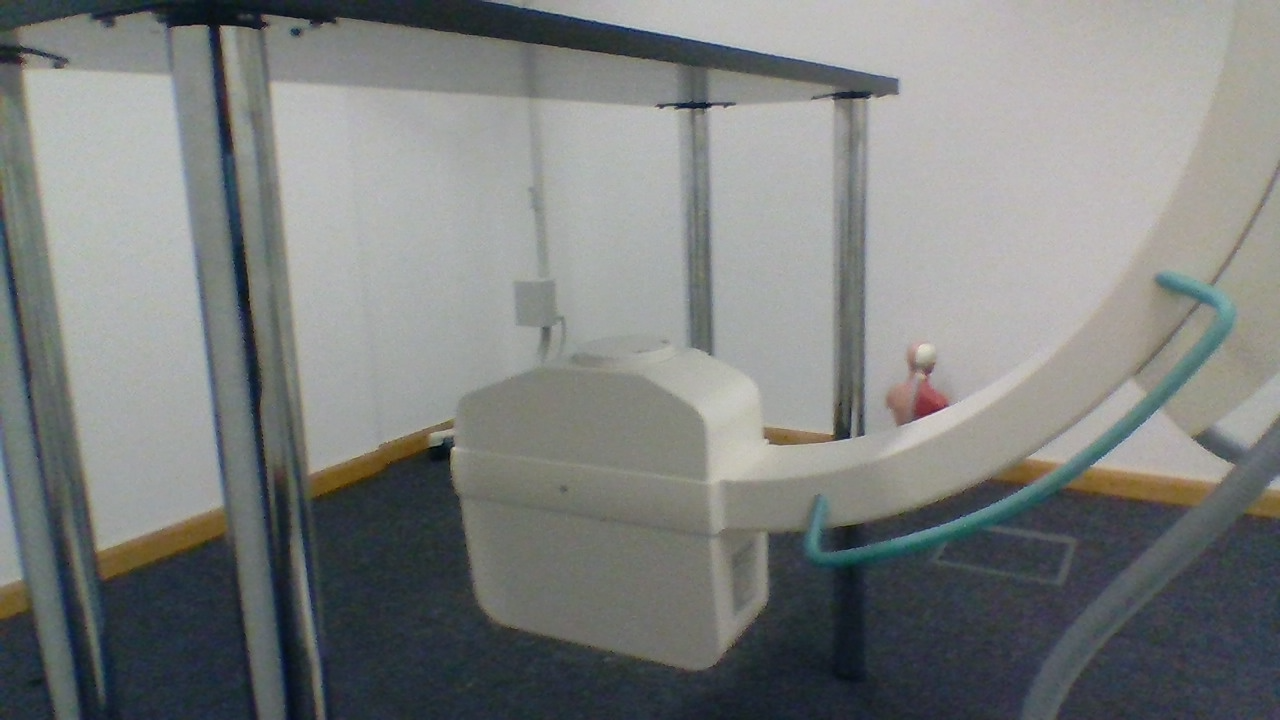carmDOWN: (454, 334, 764, 480)
